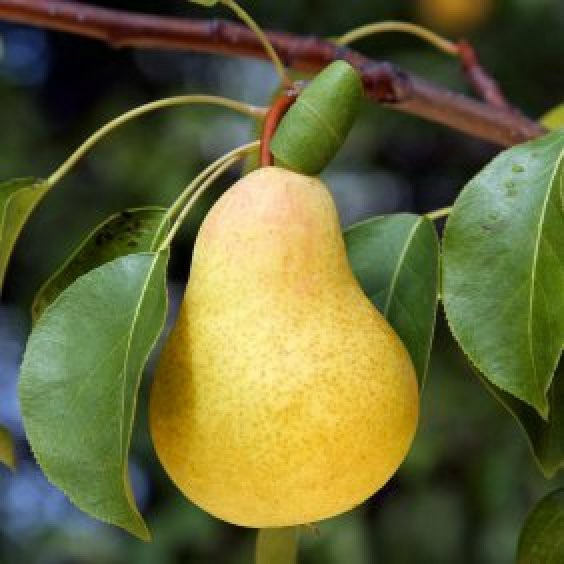pear: (150, 168, 419, 526)
